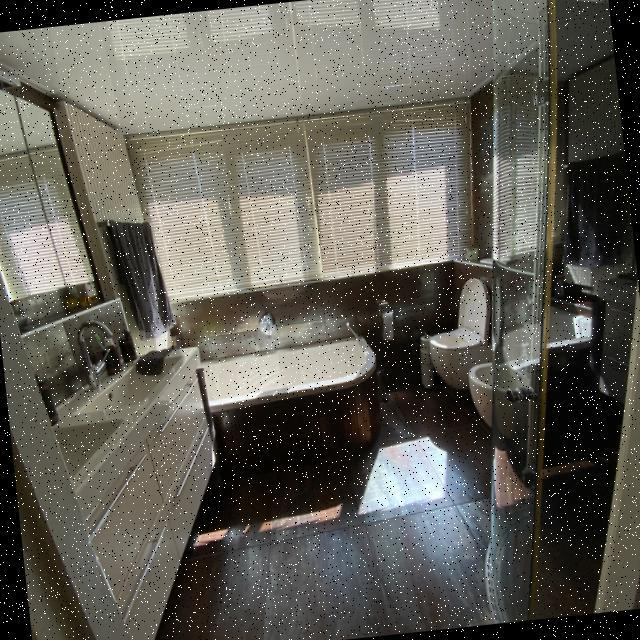bath: (196, 301, 387, 454)
douche: (422, 0, 640, 624)
toilet: (422, 273, 501, 394), (464, 338, 538, 441)
wastafel: (71, 363, 236, 640), (0, 307, 213, 500)
